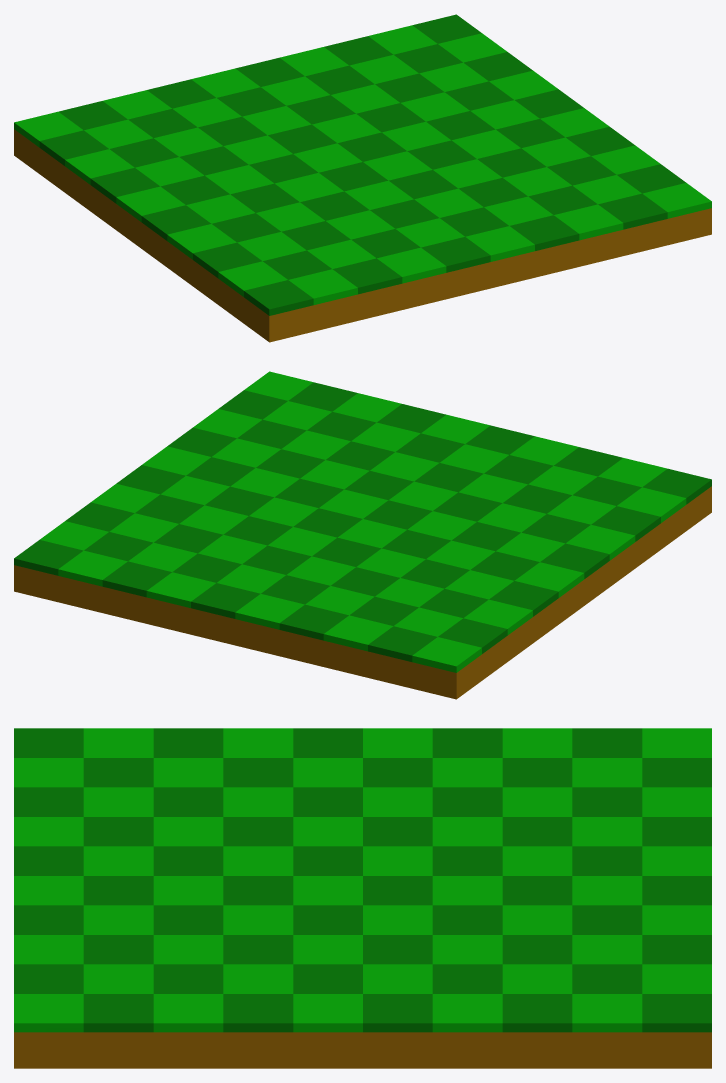
3 renders of one model, top to bottom at view 1: azimuth 30°, elevation 25°; view 2: azimuth 150°, elevation 25°; view 3: azimuth 270°, elevation 25°, orthographic. The views are drawn at different scales.
Parts seen in each view (by area): view 1: PlaneYard; view 2: PlaneYard; view 3: PlaneYard.
Boxes of the visible parts, <box> form: PlaneYard: <box>14,14,711,342</box>; PlaneYard: <box>14,371,711,699</box>; PlaneYard: <box>14,728,711,1068</box>.
Size of the model in its own units: 7 by 0.5 by 7.
1 material, 1 textured.
